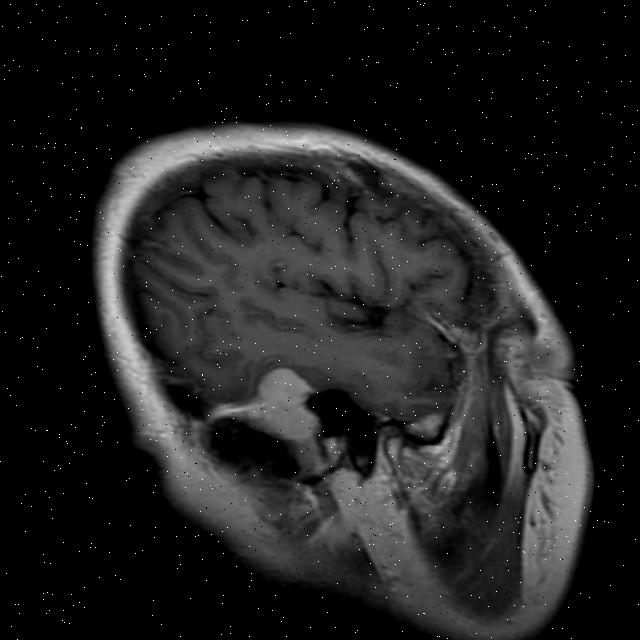Meningioma: (240, 364, 323, 443)
